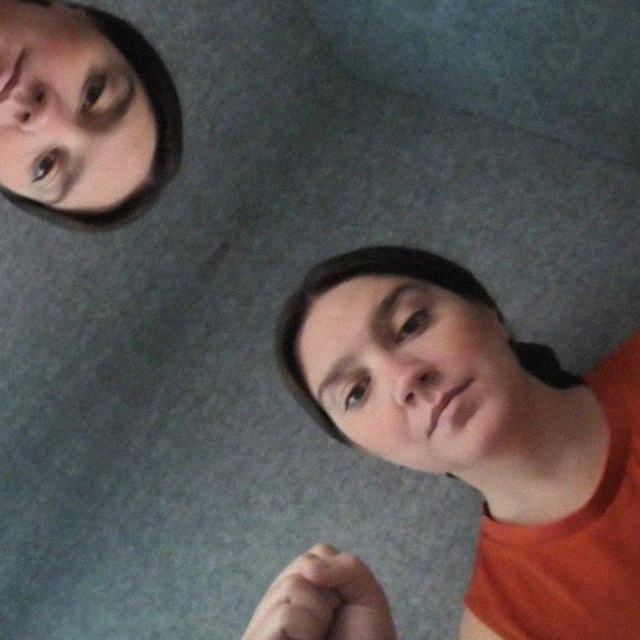Rock: (173, 469, 485, 640)
